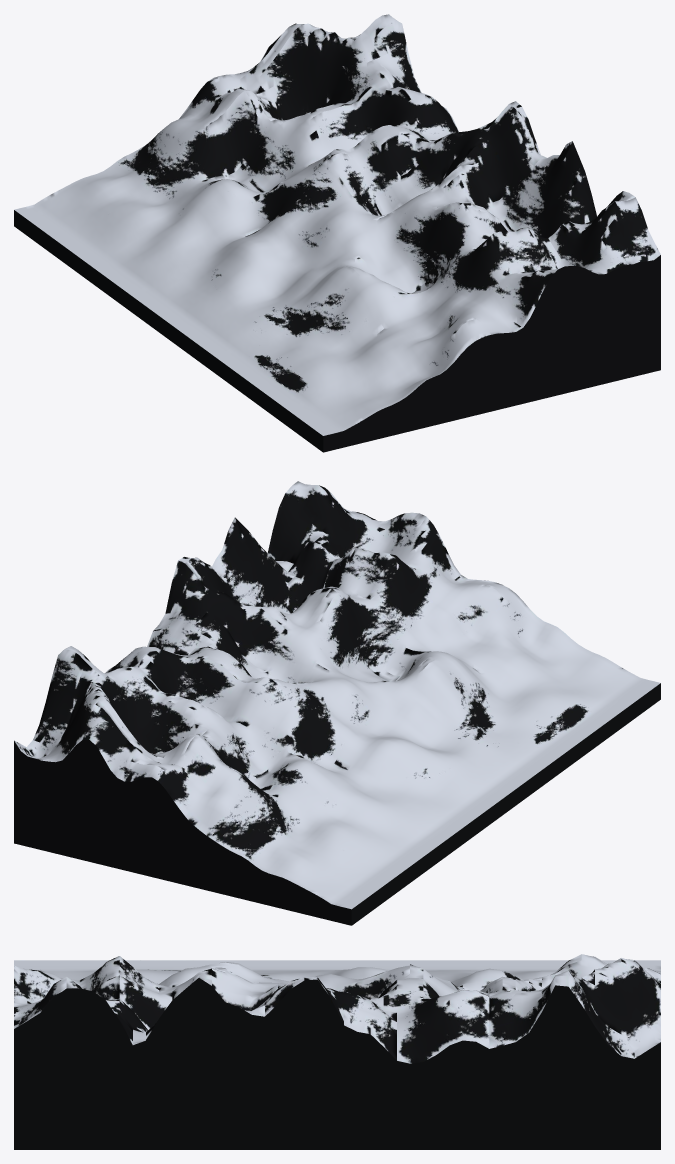
File: terrain.glb
The picture shows the model from 3 angles, top to bottom: view 1: azimuth 30°, elevation 25°; view 2: azimuth 150°, elevation 25°; view 3: azimuth 270°, elevation 25°; orthographic projection. The views are drawn at different scales.
Visible parts, largest first — view 1: Terrain; view 2: Terrain; view 3: Terrain.
Boxes of the visible parts, <box> form: Terrain: <box>14,14,660,452</box>; Terrain: <box>14,481,660,925</box>; Terrain: <box>14,954,660,1149</box>.
Size of the model in its own units: 2.27 by 1.06 by 3.6.
1 material, 1 textured.
